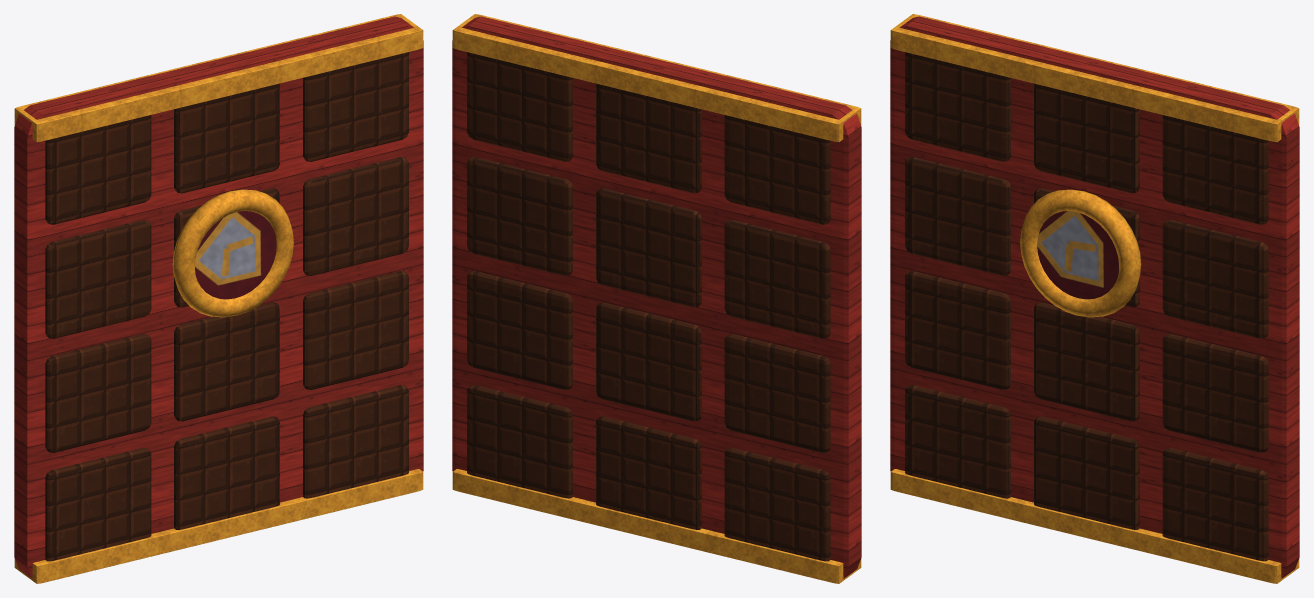
File: CHO_MonsterRoomDoor.fbx
The picture shows the model from 3 angles, left to right: view 1: azimuth 30°, elevation 25°; view 2: azimuth 150°, elevation 25°; view 3: azimuth 330°, elevation 25°; orthographic projection.
Visible parts, largest first — view 1: CHO_MonsterRoomDoor; view 2: CHO_MonsterRoomDoor; view 3: CHO_MonsterRoomDoor.
Part boxes in pixels (x1,y1,x2,y2): CHO_MonsterRoomDoor: [14, 14, 423, 583]; CHO_MonsterRoomDoor: [452, 14, 861, 583]; CHO_MonsterRoomDoor: [890, 14, 1299, 583].
Bounding box in the file's own units: 4 × 4.5 × 0.55.
